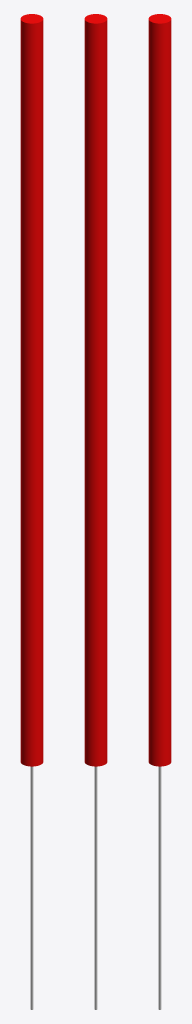
Rendered from Slalom Red.dae.
The picture shows the model from 3 angles, left to right: view 1: azimuth 30°, elevation 25°; view 2: azimuth 150°, elevation 25°; view 3: azimuth 330°, elevation 25°; orthographic projection.
Visible parts, largest first — view 1: 68c48d3119875da16d072b39 (×2); view 2: 68c48d3119875da16d072b39 (×2); view 3: 68c48d3119875da16d072b39 (×2).
Part boxes in pixels (x1,y1,x2,y2): 68c48d3119875da16d072b39 (×2): (20, 14, 43, 1009); 68c48d3119875da16d072b39 (×2): (84, 14, 107, 1009); 68c48d3119875da16d072b39 (×2): (148, 14, 171, 1009).
Bounding box in the file's own units: 0.0254 × 0.0253 × 1.22.
